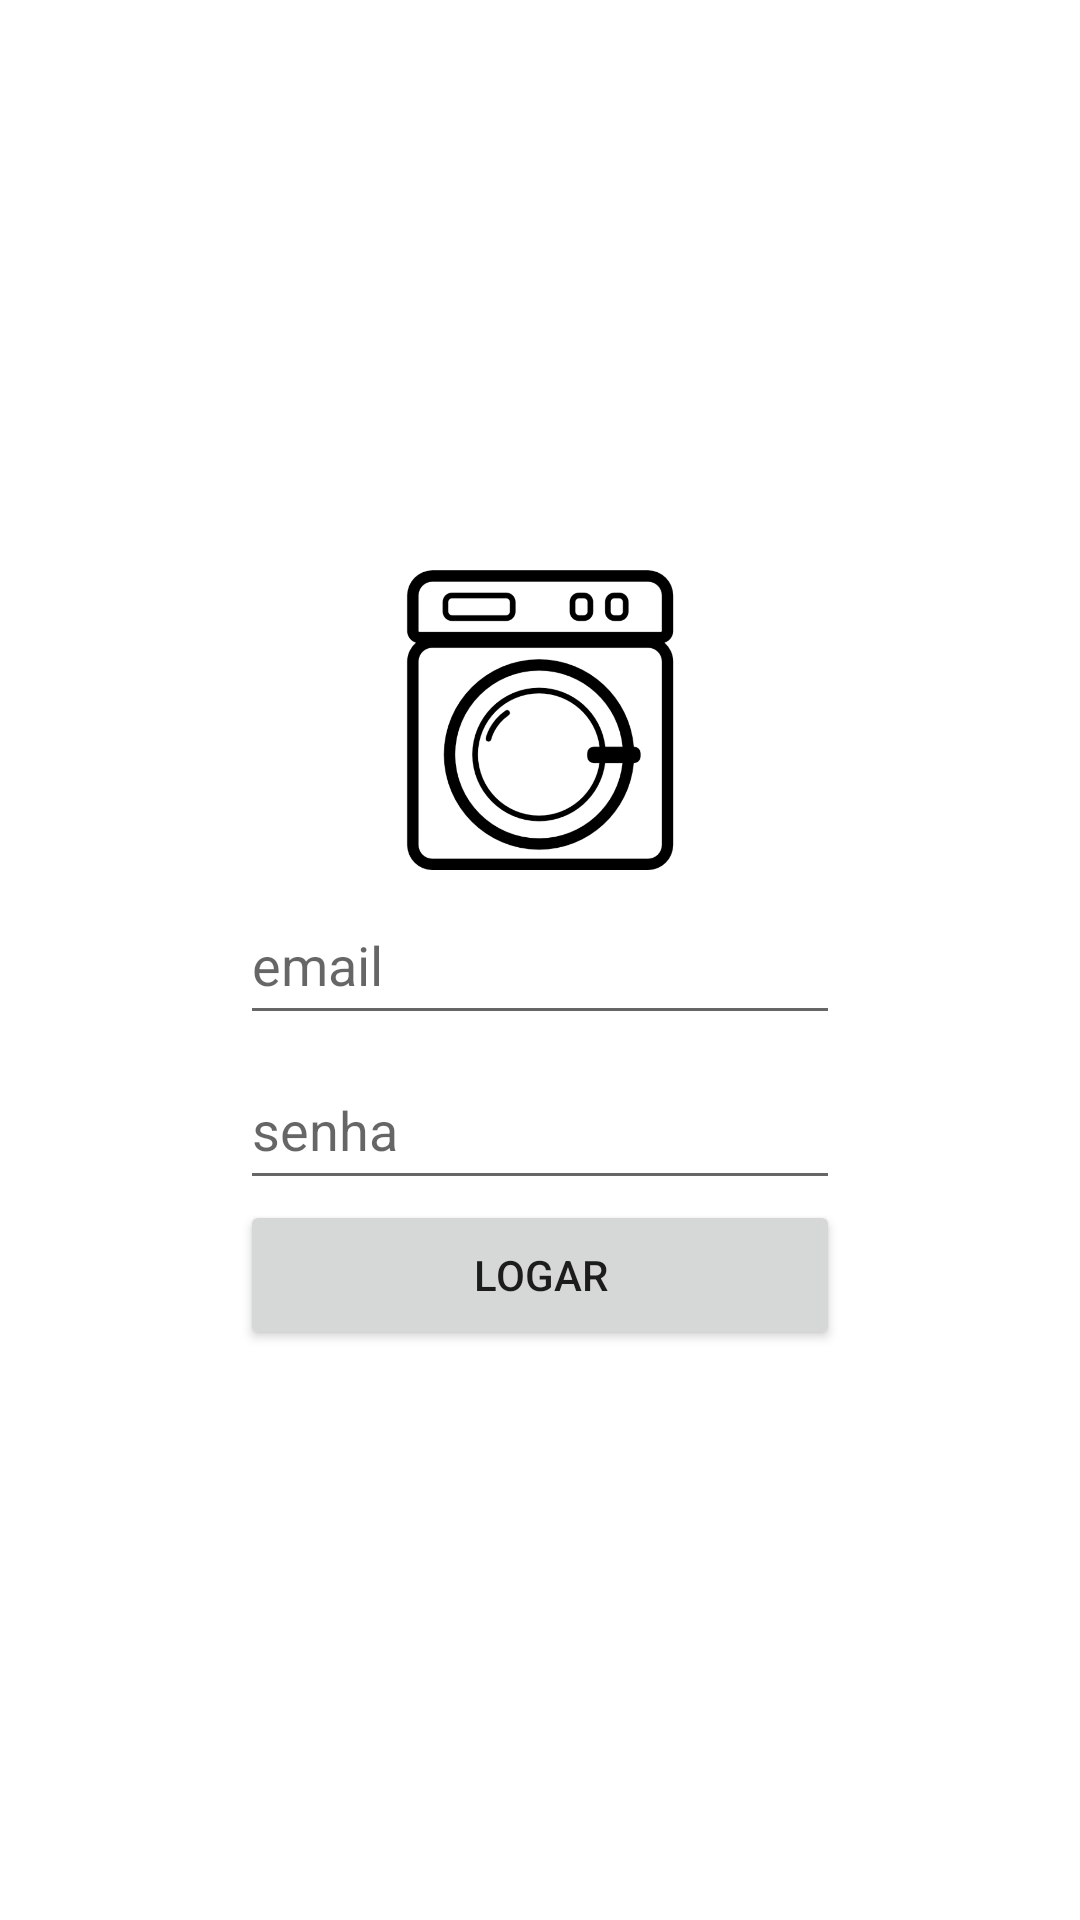

Icon bounding boxes for this 1080 x 1920 phone screenshot, format (x1, y1, x2, y2):
lavanderia base: (407, 570, 674, 870)
